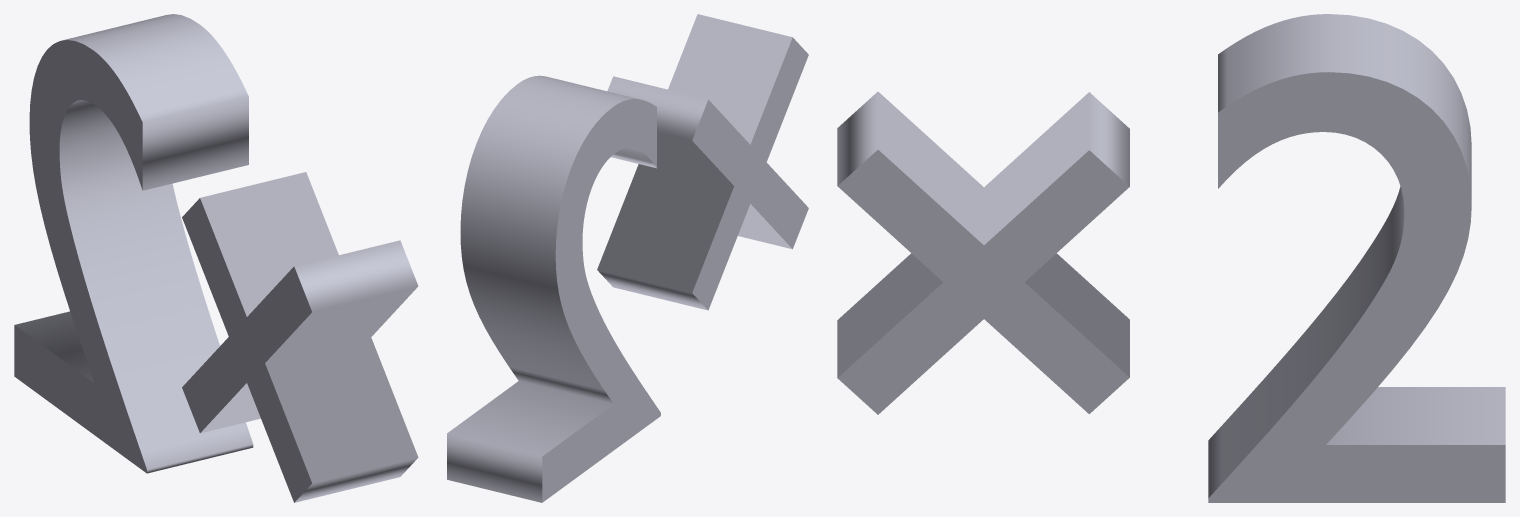
The model's file is FloorSilver.gltf.
3 views of the same model, side by side, from view 1: azimuth 30°, elevation 25°; view 2: azimuth 150°, elevation 25°; view 3: azimuth 270°, elevation 25° (orthographic). The views are drawn at different scales.
Visible parts, largest first — view 1: Cube.084; view 2: Cube.084; view 3: Cube.084.
Part boxes in pixels (x1,y1,x2,y2): Cube.084: [14, 14, 418, 502]; Cube.084: [447, 14, 808, 502]; Cube.084: [837, 14, 1505, 502].
Bounding box in the file's own units: 0.2475 × 0.8552 × 1.2.
